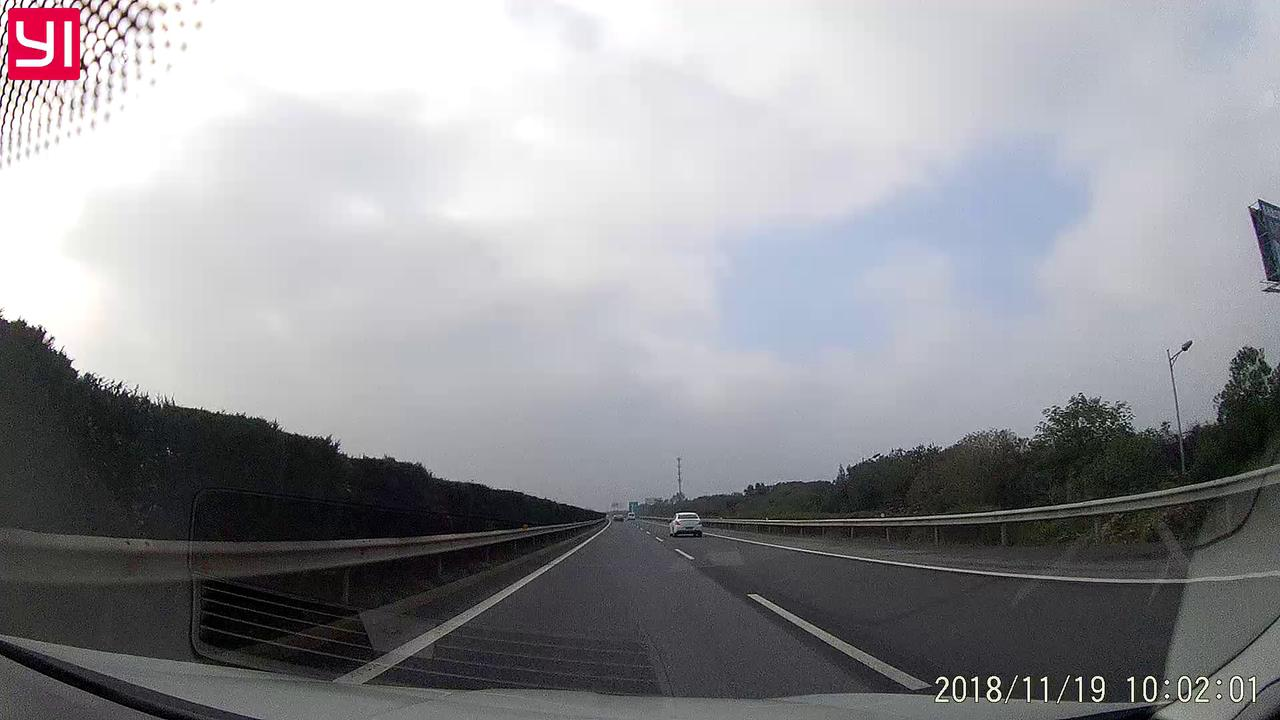car: (668, 512, 702, 537)
